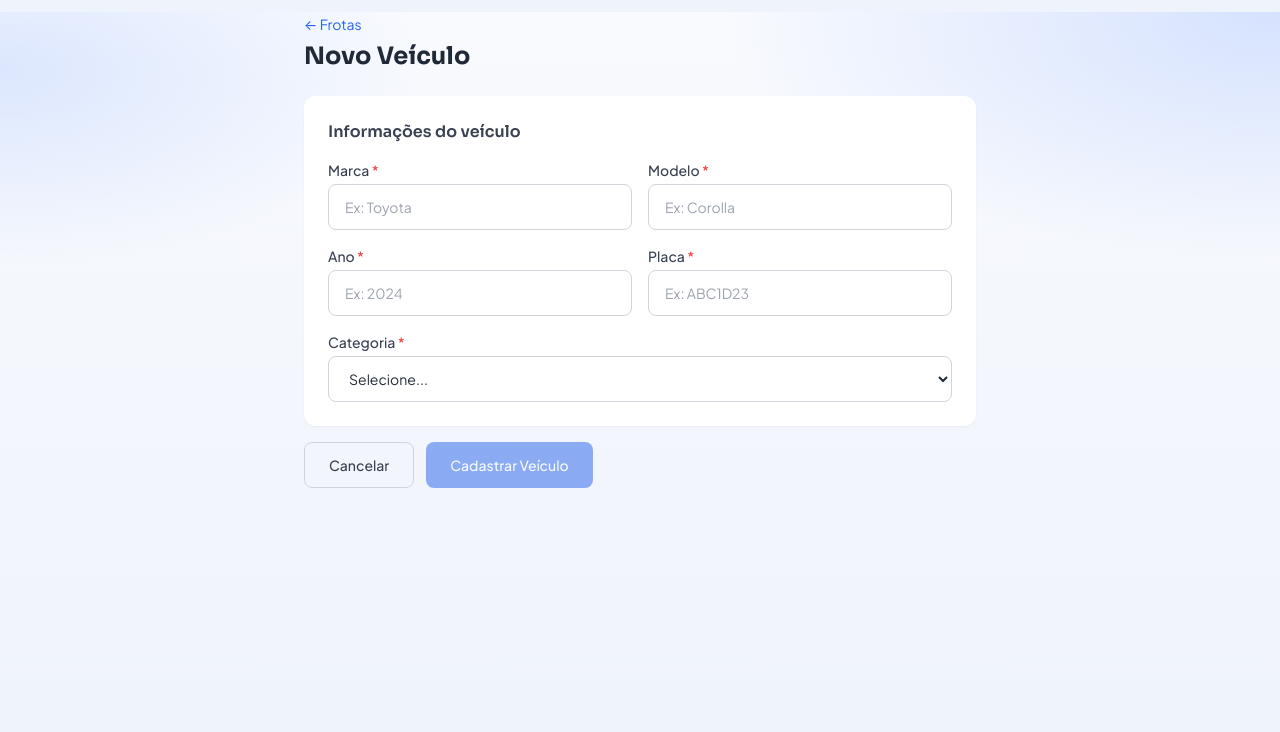
Scenario: FleetCreationPage › shows validation error for invalid year
Type "Toyota" into the field labelled "Marca".
click(480, 207); type("Toyota")  # box top-left (328, 184), bottom-right (632, 230)
Type "Corolla" into the field labelled "Modelo".
click(800, 207); type("Corolla")  # box top-left (648, 184), bottom-right (952, 230)
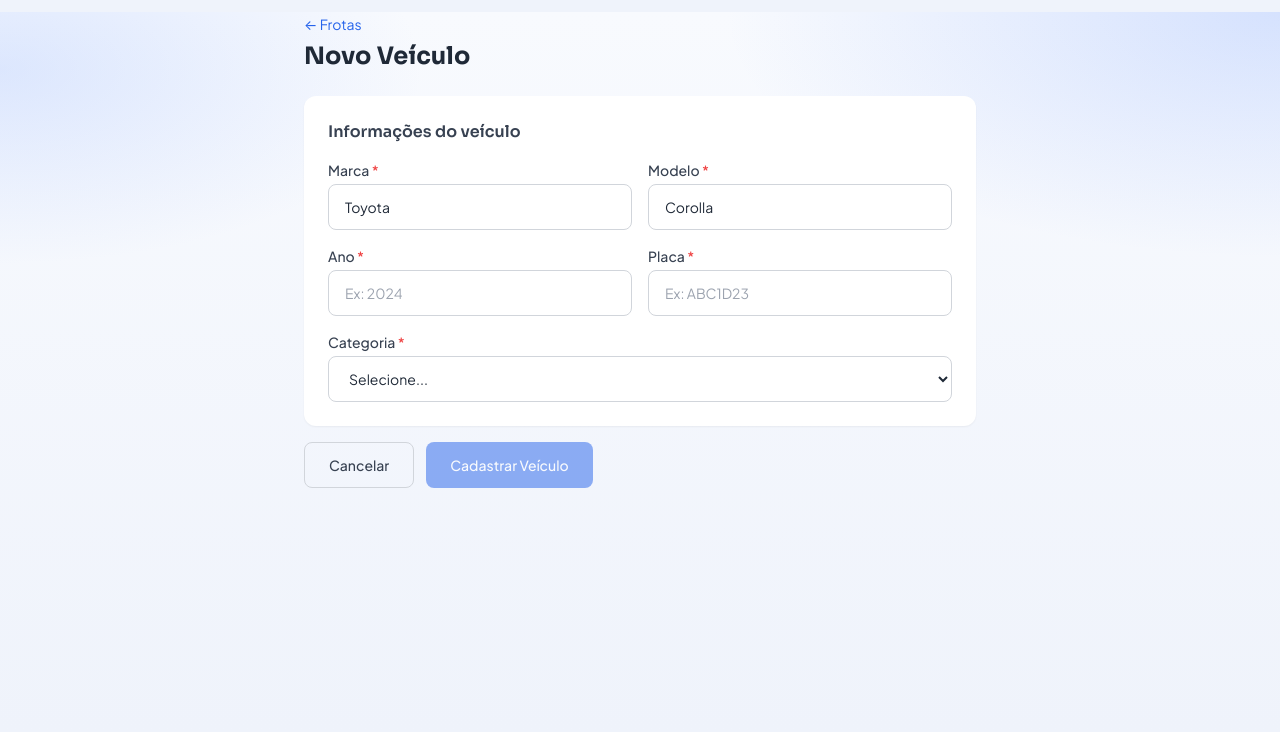
Type "2024" into the field labelled "Ano".
click(480, 293); type("2024")  # box top-left (328, 270), bottom-right (632, 316)
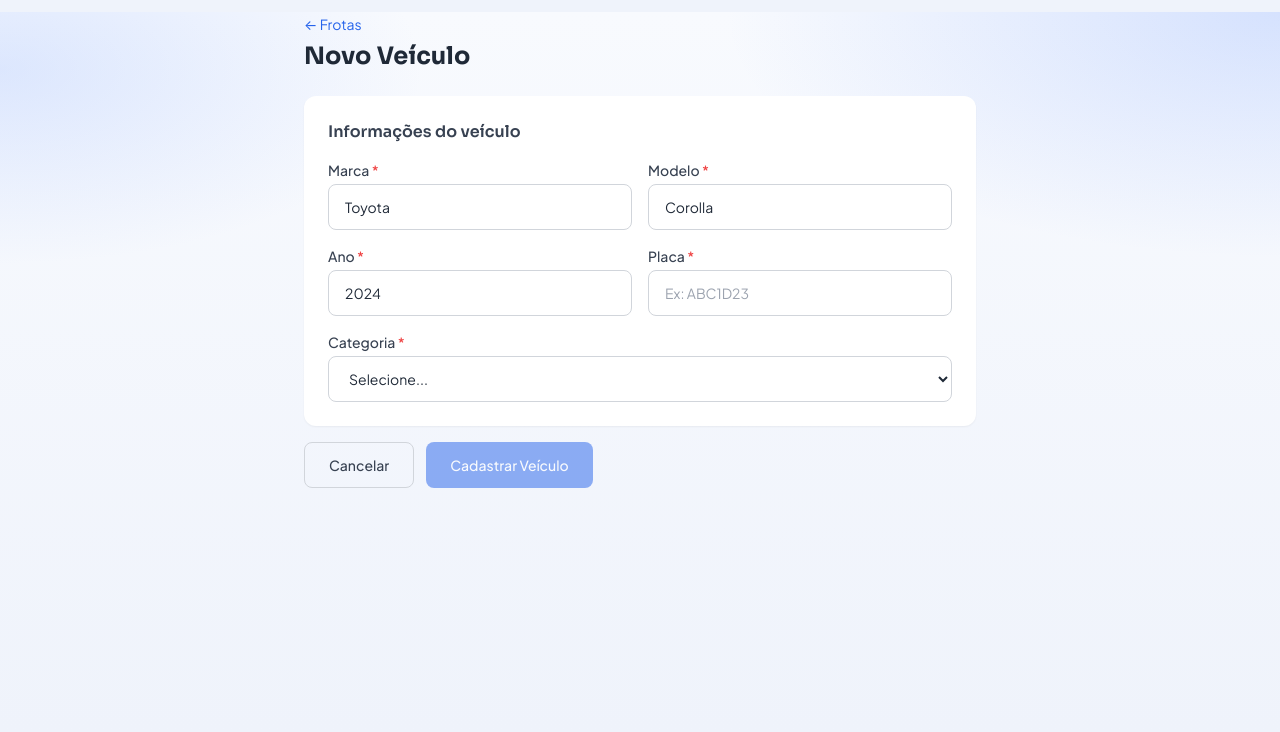
Type "ABC1D23" into the field labelled "Placa".
click(800, 293); type("ABC1D23")  # box top-left (648, 270), bottom-right (952, 316)
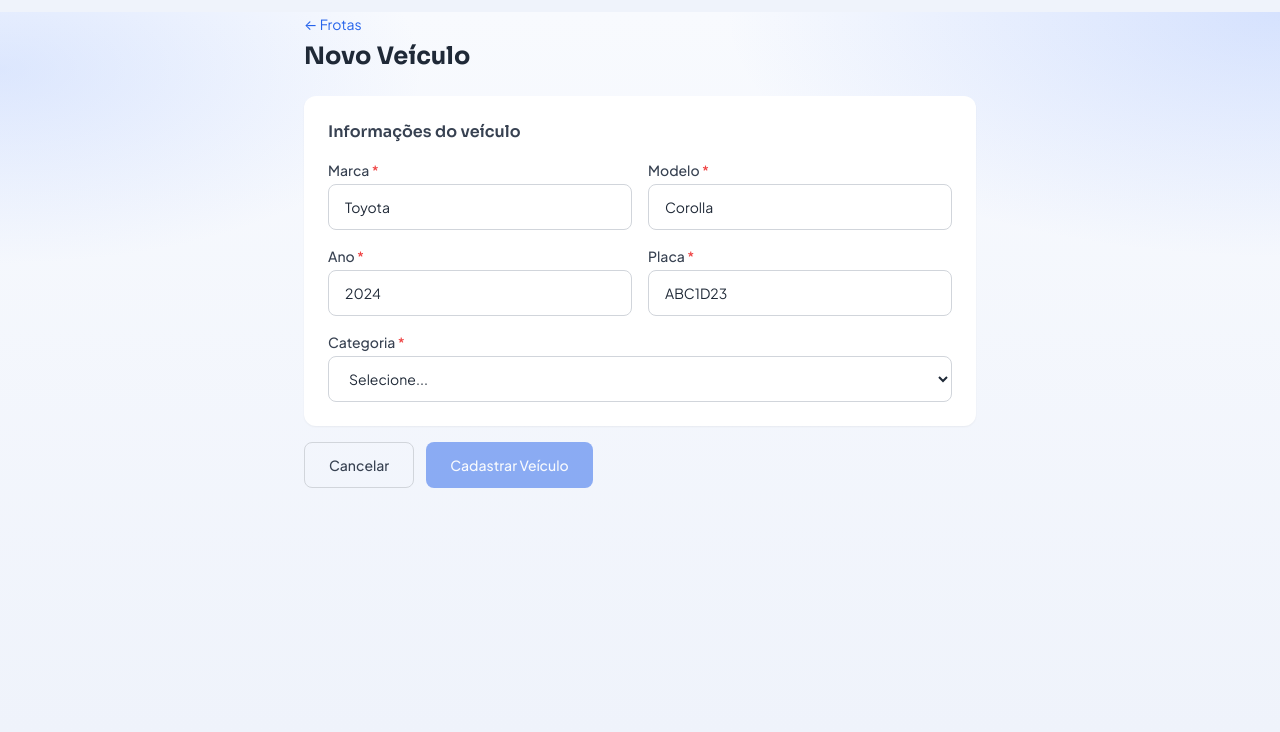
Select "Sedan" in the dropdown labelled "Categoria" at (640, 379), box top-left (328, 356), bottom-right (952, 402)
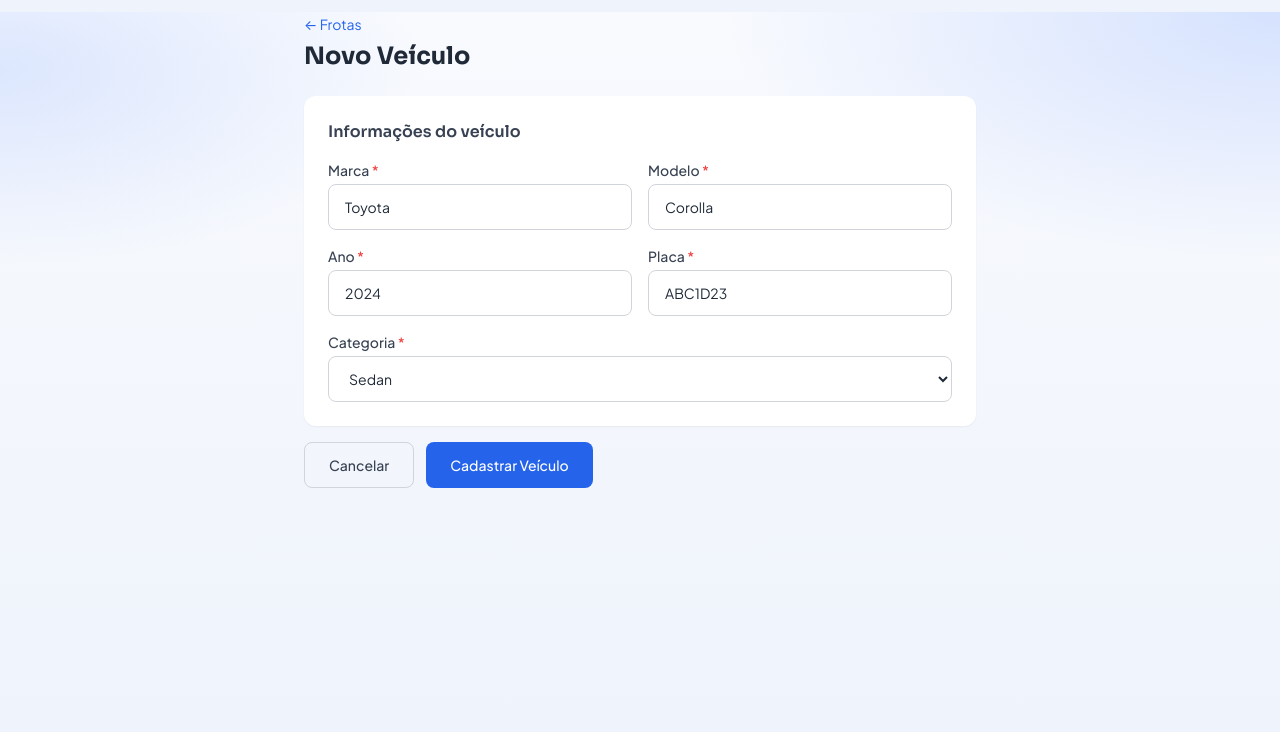
Replace the text in the field labelled "Ano" with "1800" at (480, 293), box top-left (328, 270), bottom-right (632, 316)
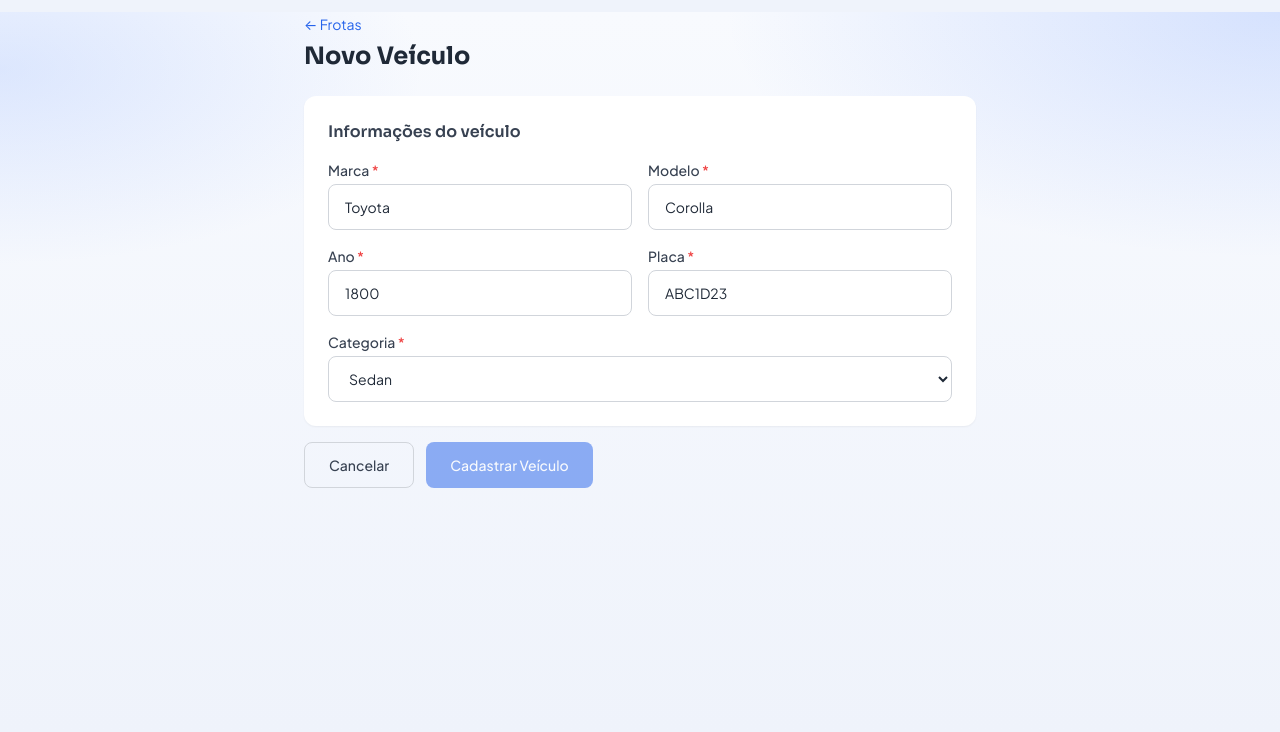
Result: the button "Cadastrar Veículo" is disabled at top-left (426, 442), bottom-right (593, 488)
Submit the form, box top-left (304, 96), bottom-right (976, 488)
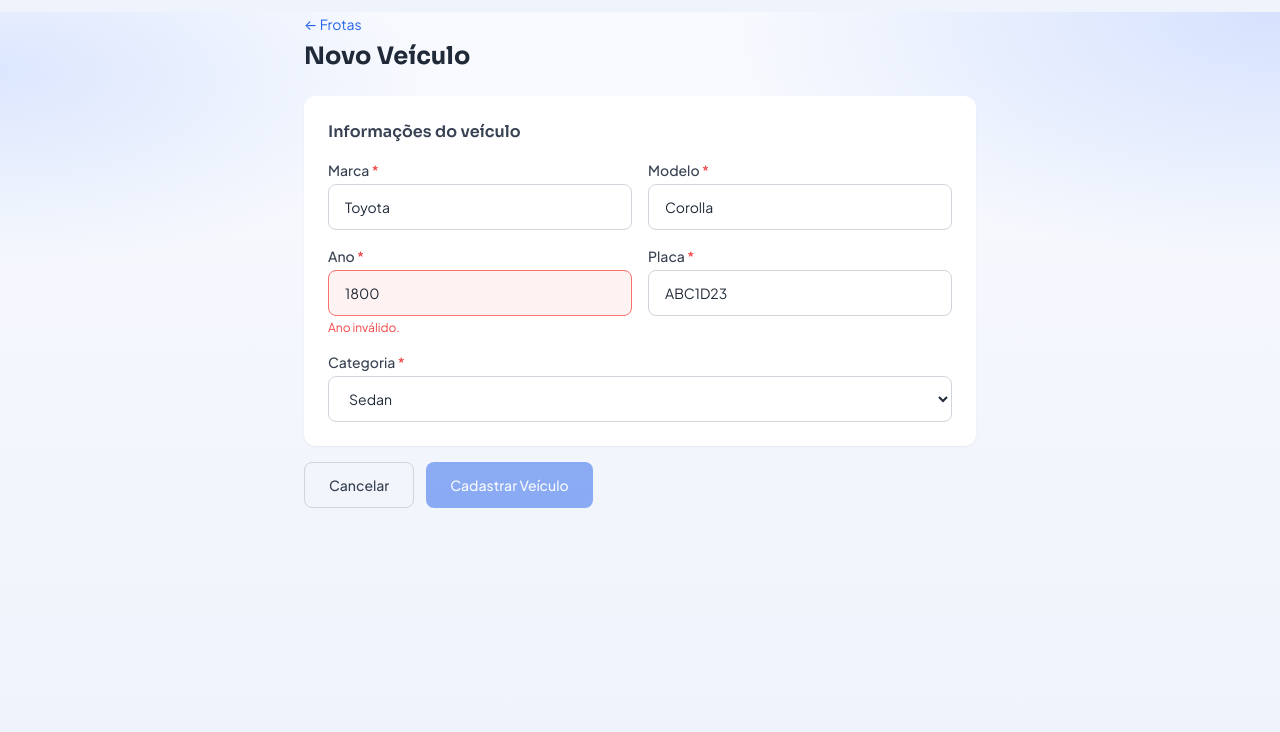
Result: the text "Ano inválido." is shown at top-left (328, 320), bottom-right (400, 335)
